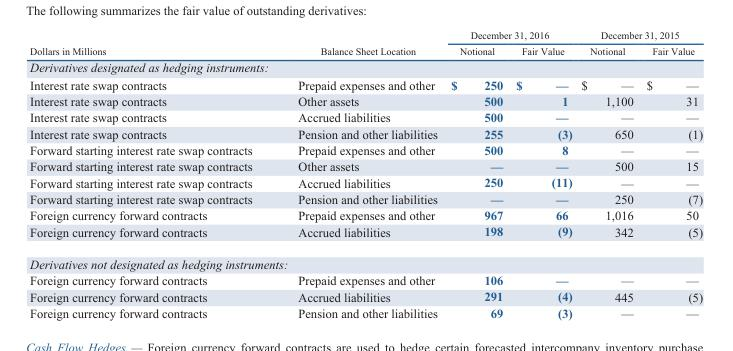table: (29, 28, 702, 319)
table column: (29, 28, 274, 319), (274, 28, 443, 319), (508, 28, 576, 319), (443, 28, 508, 319), (576, 28, 639, 319), (639, 28, 702, 319)
table column header: (29, 28, 702, 58)
table projected row header: (29, 247, 702, 271), (29, 58, 702, 75)
table row: (29, 223, 702, 247), (29, 247, 702, 271), (29, 58, 702, 75), (29, 75, 702, 92), (29, 92, 702, 109), (29, 157, 702, 174), (29, 206, 702, 223), (29, 271, 702, 288), (29, 42, 702, 58), (29, 109, 702, 125), (29, 125, 702, 141), (29, 141, 702, 157), (29, 174, 702, 190), (29, 190, 702, 206), (29, 288, 702, 304), (29, 304, 702, 319), (29, 28, 702, 42)
table spanning cell: (29, 28, 274, 58), (274, 28, 443, 58), (443, 28, 576, 42), (576, 28, 702, 42)
